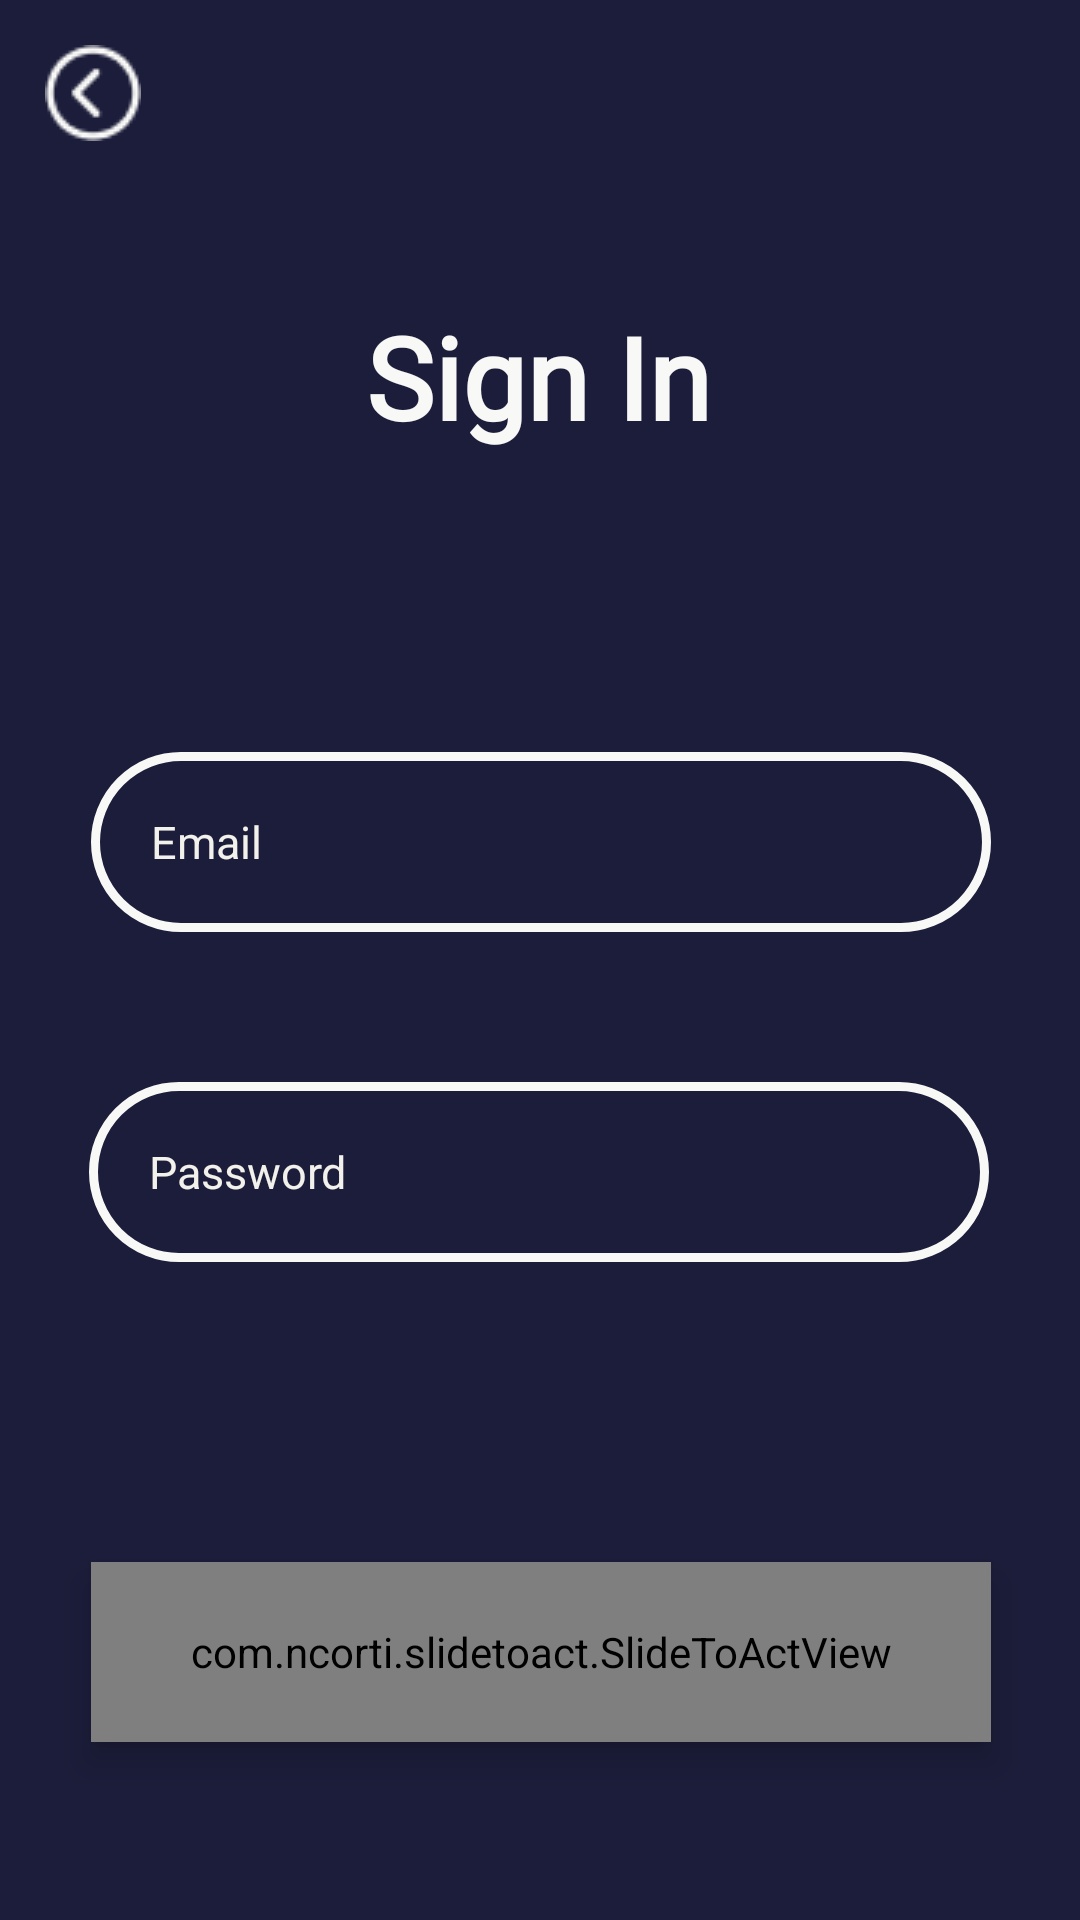

Icons on this 1080×1920 Android screen, each with its box as bbox=[x1, y1, x2, y2]:
back: bbox=[45, 45, 141, 141]
